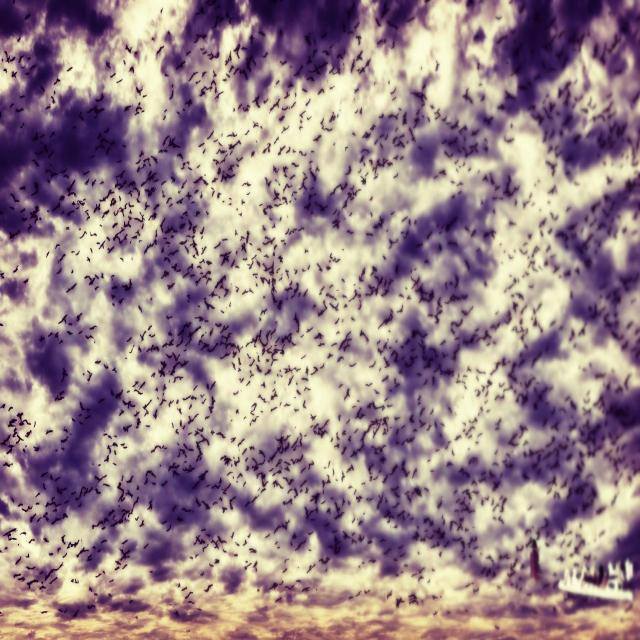airplane: (558, 558, 634, 606)
